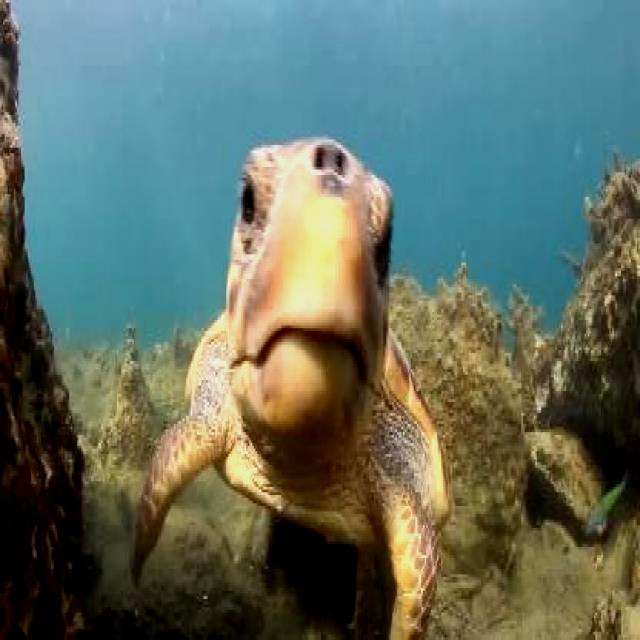Sea turtle: (119, 123, 460, 640)
